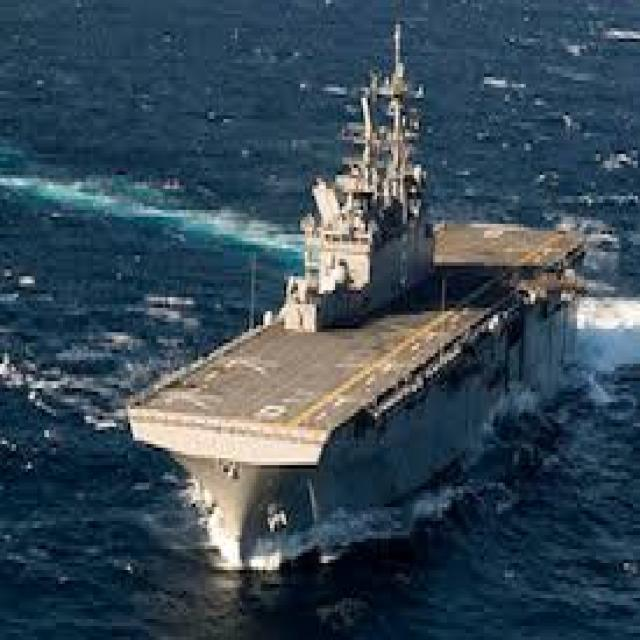navalvessels: (120, 77, 591, 568)
